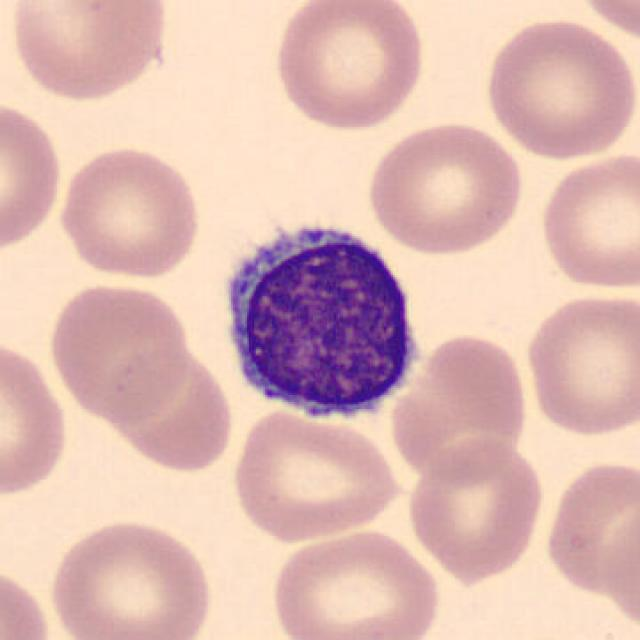Lymphocyte: (212, 206, 432, 432)
RBC: (228, 405, 404, 545), (478, 14, 636, 162), (386, 328, 533, 485), (364, 118, 526, 258), (44, 278, 194, 426), (268, 0, 431, 134), (403, 434, 548, 584), (45, 515, 218, 640), (55, 141, 205, 280), (266, 523, 444, 640), (99, 340, 234, 478), (6, 0, 174, 106), (521, 289, 638, 439), (540, 453, 638, 610), (534, 148, 638, 293), (0, 333, 71, 503), (0, 95, 66, 258), (0, 559, 55, 640), (563, 1, 640, 42)
